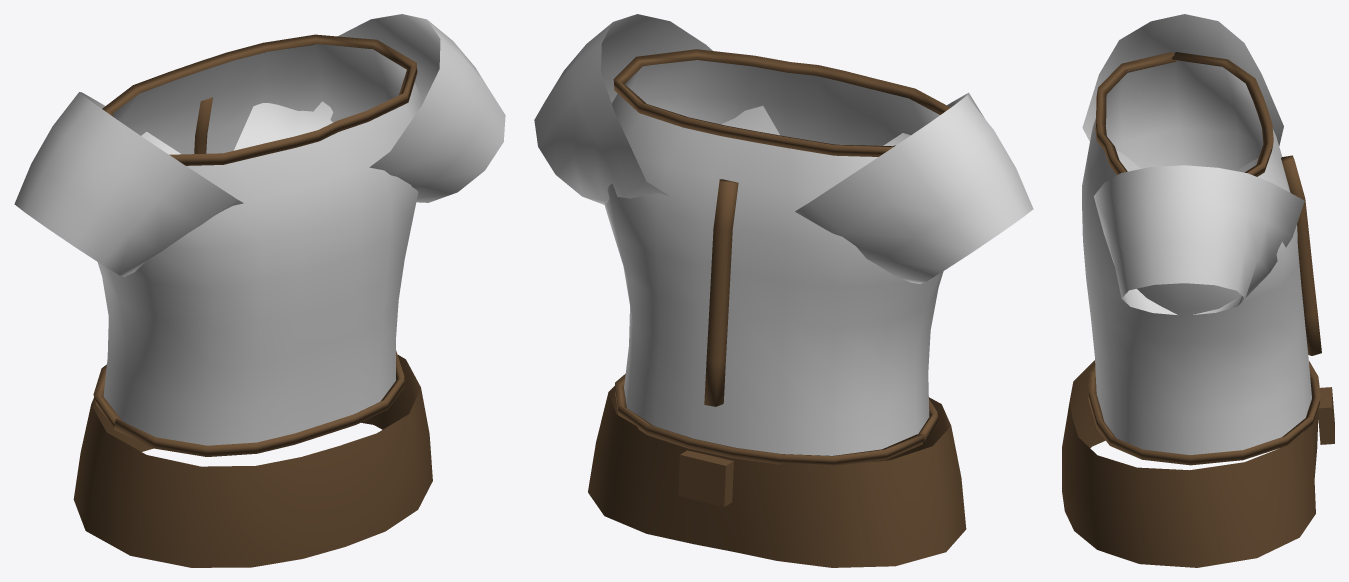
Rendered from wood_breastplate.glb.
The picture shows the model from 3 angles, left to right: view 1: azimuth 30°, elevation 25°; view 2: azimuth 150°, elevation 25°; view 3: azimuth 270°, elevation 25°; orthographic projection. The views are drawn at different scales.
Parts seen in each view (by area): view 1: wood_breastplate_chest; view 2: wood_breastplate_chest; view 3: wood_breastplate_chest.
Part boxes in pixels (x1,y1,x2,y2): wood_breastplate_chest: (14, 14, 505, 567); wood_breastplate_chest: (534, 14, 1033, 567); wood_breastplate_chest: (1062, 14, 1334, 567).
Size of the model in its own units: 0.6233 by 0.5645 by 0.3387.
